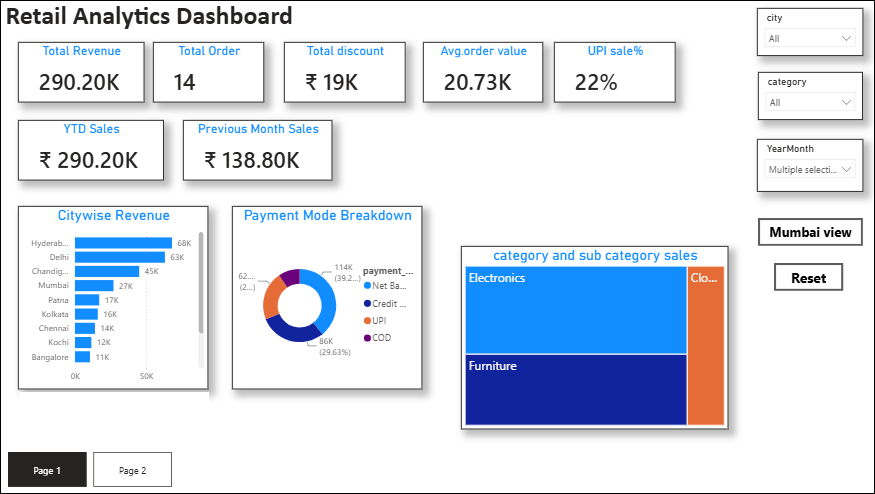

The dashboard page shown, as its layout file describes it:
{"tool":"powerbi","page":{"name":"Page 1","canvas":[1280,720],"ordinal":0},"visuals":[{"type":"textbox","box":[10.1,0,468.7,65.5],"z":0},{"type":"cardVisual","title":"Total Revenue","fields":{"Data":["public retail_sales.Total Revenue"]},"box":[33.6,65.6,181.7,87.5],"z":1000},{"type":"cardVisual","title":"Total Order","fields":{"Data":["public retail_sales.Total Order"]},"box":[227.1,65.6,159.8,87.5],"z":2000},{"type":"cardVisual","title":"Total discount","fields":{"Data":["public retail_sales.Total Discount"]},"box":[415.5,65.6,174.9,87.5],"z":3000},{"type":"clusteredBarChart","title":"Citywise Revenue","fields":{"Category":["public retail_sales.city"],"Y":["Sum(public retail_sales.sales_amount)"]},"box":[33.6,302.4,273.8,263.7],"z":4000},{"type":"donutChart","title":"Payment Mode Breakdown","fields":{"Category":["public retail_sales.payment_mode"],"Y":["Sum(public retail_sales.sales_amount)"]},"box":[341,302.4,273.8,263.7],"z":5000},{"type":"treemap","title":"category and sub category sales","fields":{"Group":["public retail_sales.category","public retail_sales.sub_category"],"Values":["Sum(public retail_sales.sales_amount)"]},"box":[671.1,359.9,385.2,264.1],"z":6000},{"type":"slicer","fields":{"Values":["public retail_sales.category"]},"box":[1098.6,109.2,151.2,68.9],"z":7000},{"type":"slicer","fields":{"Values":["public retail_sales.city"]},"box":[1096.9,16.8,152.9,68.9],"z":8000},{"type":"cardVisual","title":"Avg.order value","fields":{"Data":["public retail_sales.Average order value"]},"box":[615.6,65.6,173.2,87.5],"z":9000},{"type":"cardVisual","title":"UPI sale%","fields":{"Data":["public retail_sales.UPI sales %"]},"box":[805.7,65.6,174.9,87.5],"z":10000},{"type":"cardVisual","title":"YTD Sales","fields":{"Data":["public retail_sales.YTD Sales"]},"box":[33.6,178.3,210.2,87.5],"z":11000},{"type":"cardVisual","title":"Previous Month Sales","fields":{"Data":["public retail_sales.Previous Month Sales"]},"box":[270.8,178.3,215.3,87.5],"z":12000},{"type":"slicer","fields":{"Values":["DimDate.YearMonth"]},"box":[1096.9,206.6,152.9,75.6],"z":13000},{"type":"FlowVisual_C29F1DCC_81F5_4973_94AD_0517D44CC06A","box":[34,570,274,150],"z":14000},{"type":"actionButton","box":[1098.7,319.7,151.2,40.3],"z":15000},{"type":"actionButton","box":[1122.2,384,99.7,40.2],"z":16000},{"type":"pageNavigator","box":[18.7,656.6,237.6,50.4],"z":16001}]}

Visuals, with their boxes in screenshot pixels (x1, y1, x2, y2), scaled from the page's 1280x720 canvas onto the 875x494 screenshot:
textbox: bbox=(7, 0, 327, 45)
"Total Revenue" cardVisual: bbox=(23, 45, 147, 105)
"Total Order" cardVisual: bbox=(155, 45, 264, 105)
"Total discount" cardVisual: bbox=(284, 45, 404, 105)
"Citywise Revenue" clusteredBarChart: bbox=(23, 207, 210, 388)
"Payment Mode Breakdown" donutChart: bbox=(233, 207, 420, 388)
"category and sub category sales" treemap: bbox=(459, 247, 722, 428)
slicer - public retail_sales.category: bbox=(751, 75, 854, 122)
slicer - public retail_sales.city: bbox=(750, 12, 854, 59)
"Avg.order value" cardVisual: bbox=(421, 45, 539, 105)
"UPI sale%" cardVisual: bbox=(551, 45, 670, 105)
"YTD Sales" cardVisual: bbox=(23, 122, 167, 182)
"Previous Month Sales" cardVisual: bbox=(185, 122, 332, 182)
slicer - DimDate.YearMonth: bbox=(750, 142, 854, 194)
FlowVisual_C29F1DCC_81F5_4973_94AD_0517D44CC06A: bbox=(23, 391, 211, 493)
actionButton: bbox=(751, 219, 854, 247)
actionButton: bbox=(767, 263, 835, 291)
pageNavigator: bbox=(13, 451, 175, 485)
